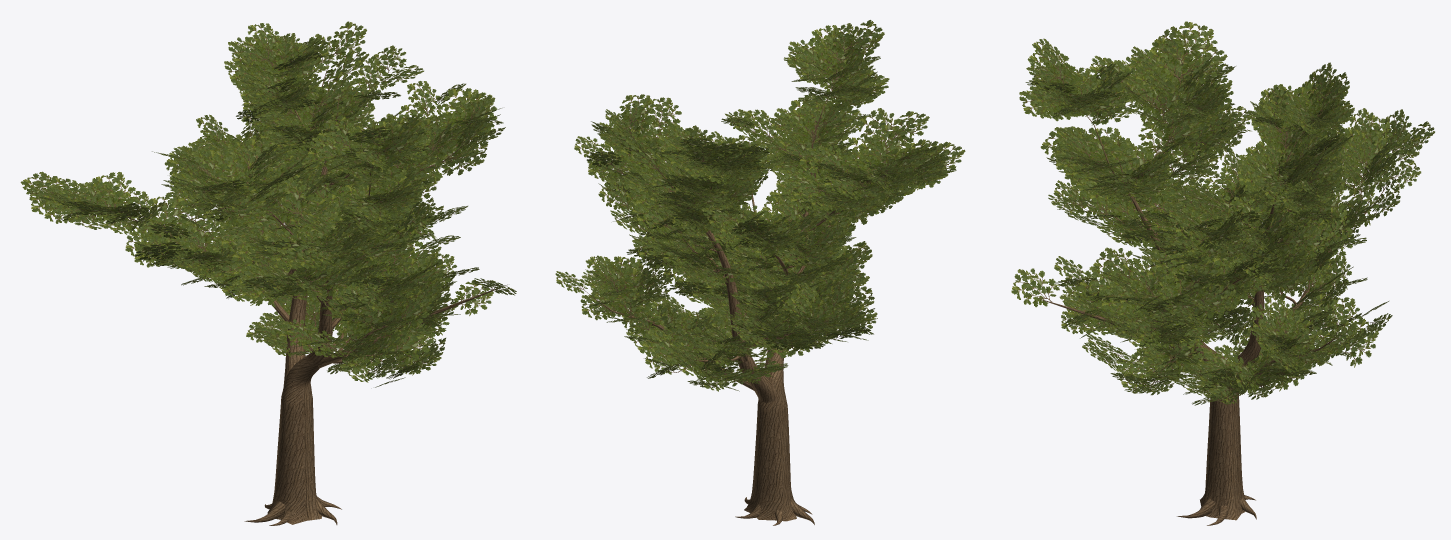
The model's file is corealm_oak_1.glb.
3 views of the same model, side by side, from view 1: azimuth 30°, elevation 25°; view 2: azimuth 150°, elevation 25°; view 3: azimuth 270°, elevation 25° (orthographic). The views are drawn at different scales.
Visible parts, largest first — view 1: corealm_oak_1; view 2: corealm_oak_1; view 3: corealm_oak_1.
Boxes of the visible parts, left/top/right/bottom form: corealm_oak_1: left=20, top=21, right=516, bottom=525; corealm_oak_1: left=555, top=20, right=965, bottom=525; corealm_oak_1: left=1011, top=21, right=1434, bottom=525.
Bounding box in the file's own units: 13.97 × 15.5 × 13.13.
2 materials, 2 textured.
